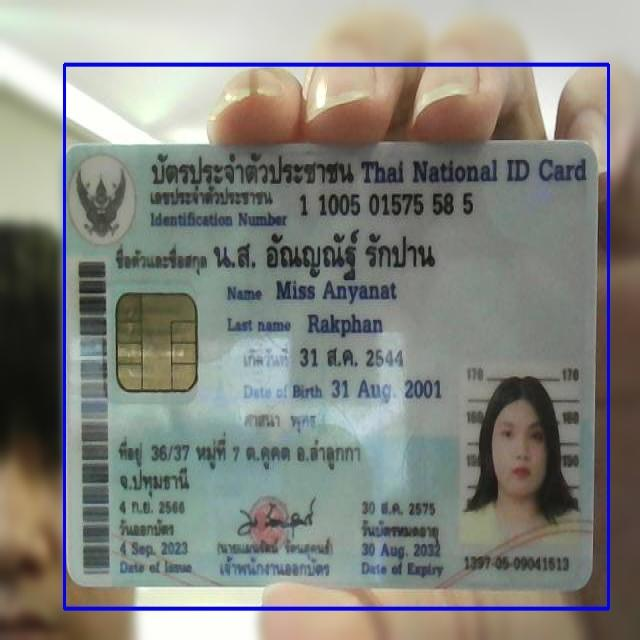Address_th: (112, 429, 374, 502)
Date_of_Birth: (329, 374, 443, 405)
Date_of_Expiry: (358, 539, 445, 560)
Date_of_Issue: (117, 536, 196, 560)
First_Name: (272, 278, 399, 306)
ID_Number: (297, 187, 478, 222)
Image: (461, 363, 576, 551)
Last_Name: (305, 309, 385, 341)
Thai_Name: (210, 223, 442, 285)
